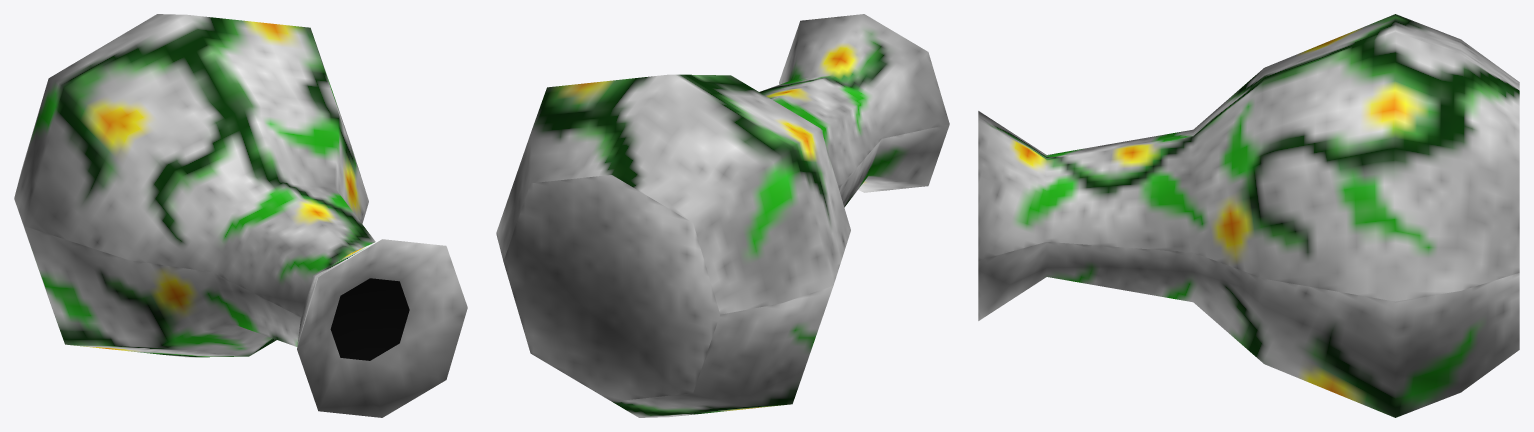
Rendered from Vase 1.obj.
The picture shows the model from 3 angles, left to right: view 1: azimuth 30°, elevation 25°; view 2: azimuth 150°, elevation 25°; view 3: azimuth 270°, elevation 25°; orthographic projection. The views are drawn at different scales.
Visible parts, largest first — view 1: Cube1; view 2: Cube1; view 3: Cube1.
Boxes of the visible parts, left/top/right/bottom form: Cube1: left=14, top=14, right=467, bottom=417; Cube1: left=496, top=14, right=949, bottom=417; Cube1: left=978, top=14, right=1519, bottom=417.
Bounding box in the file's own units: 3.02 × 3.02 × 4.03.
Materials: 1 (1 with a texture image).
